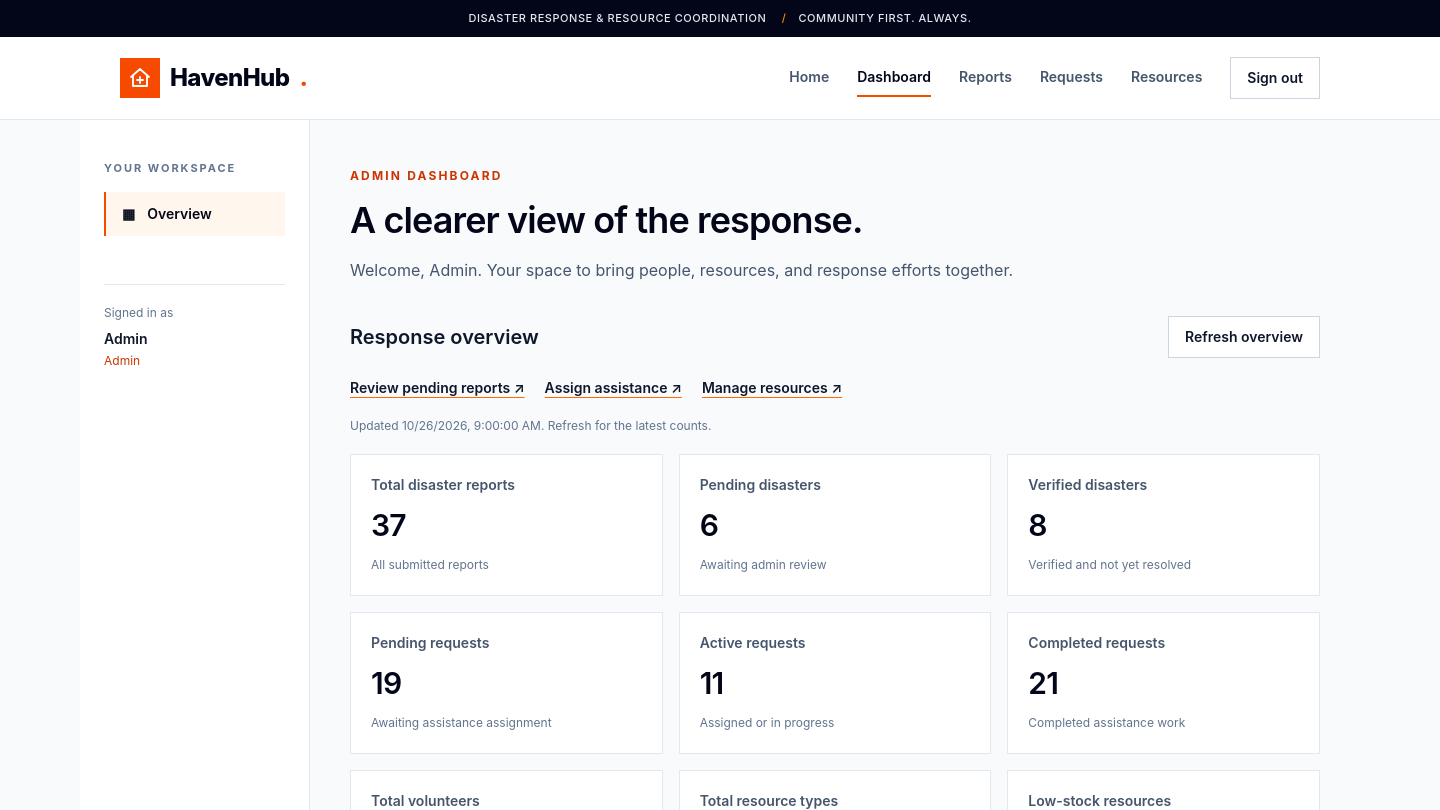
Test: refresh replaces counts and lists with current server data
The image size is (1440, 810).
expect the text "Total disaster reports" is shown: met, box 371,476 -> 515,492
Click the button "Refresh overview". click: click(1244, 336)
box: 1168,316 -> 1320,358
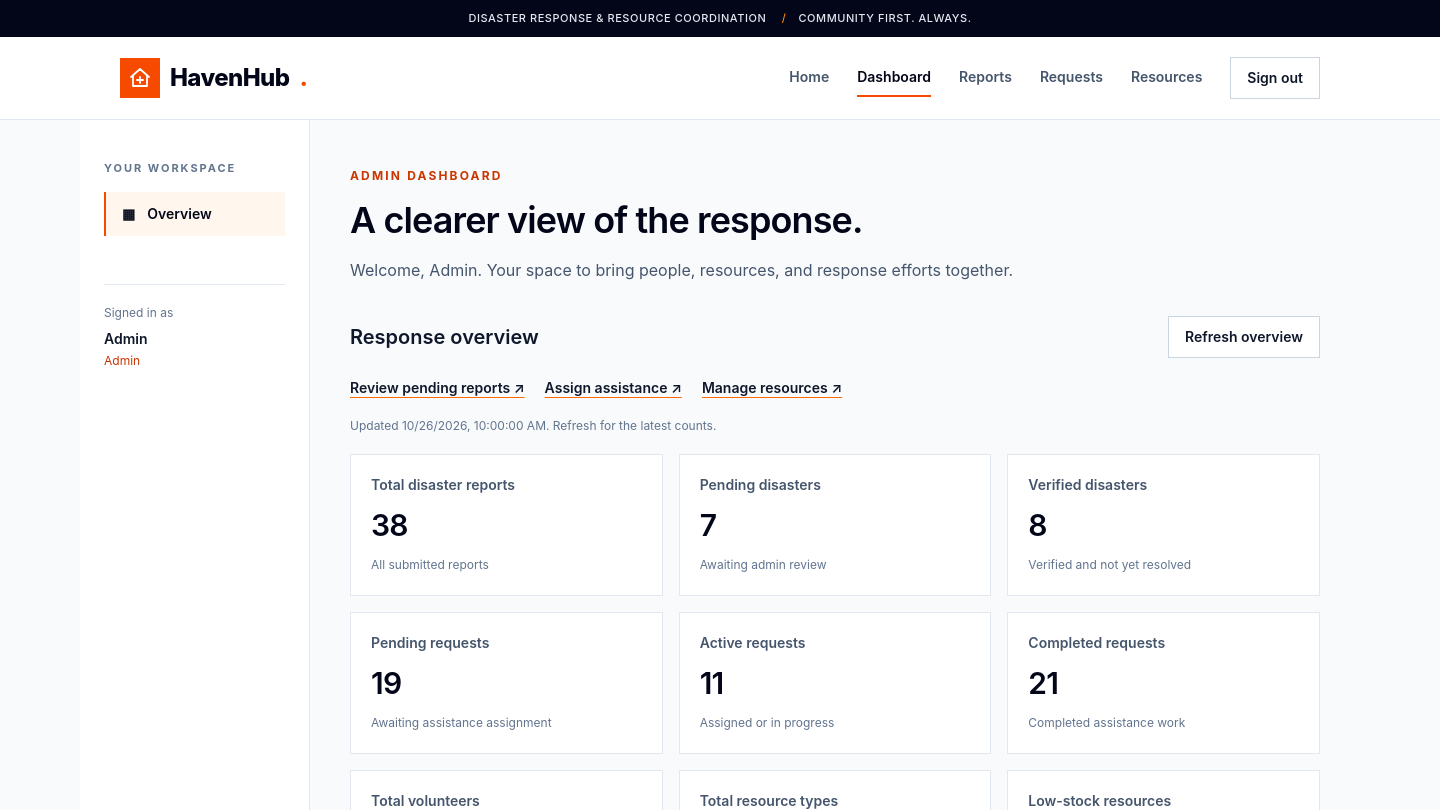
expect the link "38" is shown: met, box 371,506 -> 408,542
